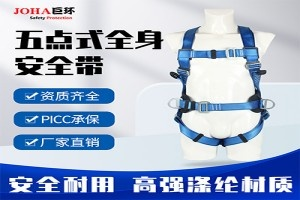safety belt: (177, 30, 269, 150)
